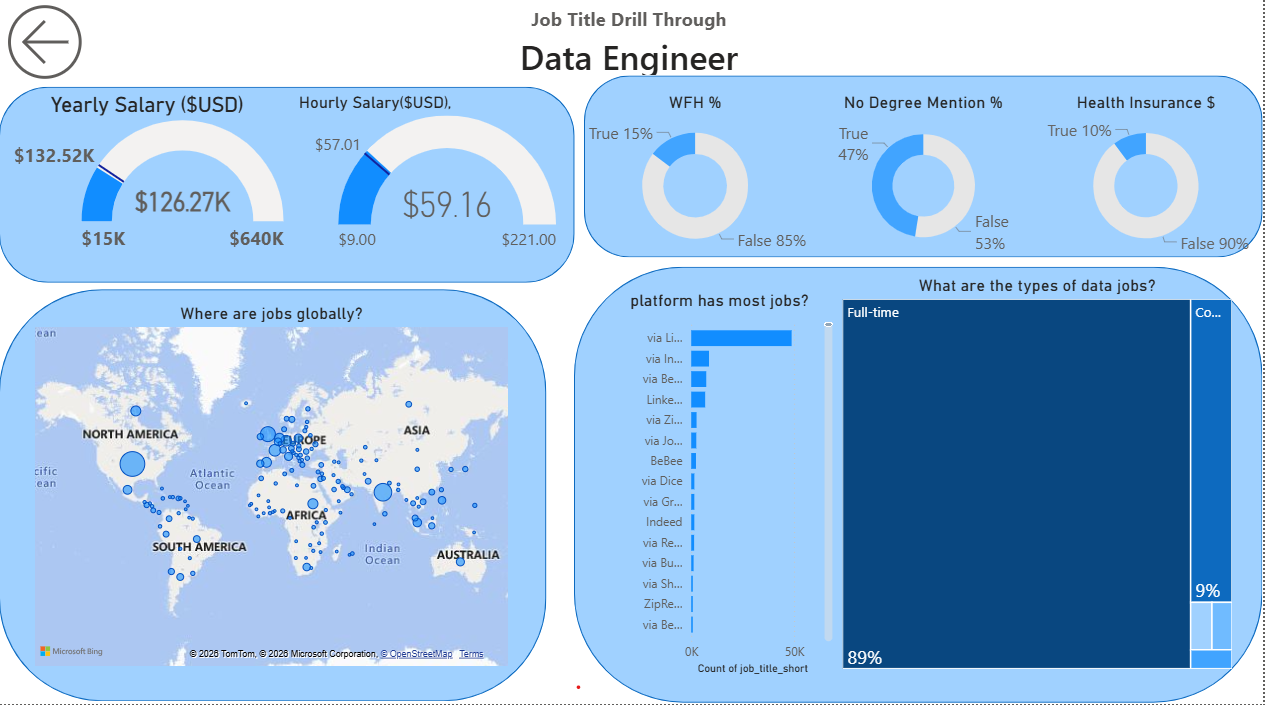

This screenshot's page, from the dashboard's own definition file:
{"tool":"powerbi","page":{"name":"Job Title Drill Through","canvas":[1280,720],"ordinal":1},"visuals":[{"type":"group","id":"g1","title":"Background","box":[0,84.2,1280,635.8],"z":0},{"type":"cardVisual","fields":{"Data":["Min(job_postings_flat.job_title_short)1"]},"box":[419.4,0,438.9,100],"z":1000},{"type":"actionButton","box":[0,0,92.9,100],"z":2000},{"type":"gauge","title":"Yearly Salary ($USD)","fields":{"Y":["Median(job_postings_flat.salary_year_avg)"],"MinValue":["Min(job_postings_flat.salary_year_avg)1"],"MaxValue":["Max(job_postings_flat.salary_year_avg)2"],"TargetValue":["Avg(job_postings_flat.salary_year_avg)3"]},"box":[0,100,298.9,171.1],"z":3000},{"type":"donutChart","title":"WFH %","fields":{"Category":["job_postings_flat.job_work_from_home"],"Y":["CountNonNull(job_postings_flat.job_work_from_home)"]},"box":[582.9,100,245.7,171.4],"z":4000},{"type":"donutChart","title":"No Degree Mention %","fields":{"Category":["job_postings_flat.job_no_degree_mention"],"Y":["CountNonNull(job_postings_flat.job_work_from_home)"]},"box":[828.6,100,214.3,171.4],"z":5000},{"type":"donutChart","title":"Health Insurance $","fields":{"Category":["job_postings_flat.job_health_insurance"],"Y":["CountNonNull(job_postings_flat.job_work_from_home)"]},"box":[1042.9,100,237.1,171.4],"z":6000},{"type":"map","title":"Where are jobs globally?","fields":{"Category":["job_postings_flat.job_country"],"Size":["CountNonNull(job_postings_flat.job_title_short)"]},"box":[32,314,489,372],"z":7000},{"type":"treemap","title":"What are the types of data jobs?","fields":{"Group":["job_postings_flat.job_schedule_type"],"Values":["CountNonNull(job_postings_flat.job_schedule_type)"]},"box":[848.9,286.7,404.4,403.3],"z":8000},{"type":"barChart","title":"platform has most jobs?","fields":{"Category":["job_postings_flat.job_via"],"Y":["CountNonNull(job_postings_flat.job_title_short)"]},"box":[633.8,300.8,215,394.2],"z":9000},{"type":"gauge","title":"Hourly Salary($USD), ","fields":{"Y":["Median(job_postings_flat.salary_hour_avg)"],"MinValue":["Min(job_postings_flat.salary_hour_avg)"],"MaxValue":["Max(job_postings_flat.salary_hour_avg)1"],"TargetValue":["Avg(job_postings_flat.salary_hour_avg)2"]},"box":[298.9,100,283.9,171.1],"z":10000},{"type":"shape","box":[0,95,582.9,198.6],"z":12000,"group":"g1"},{"type":"shape","box":[592.9,84.2,687.1,184.3],"z":14000,"group":"g1"},{"type":"shape","box":[0,301.1,554.3,417.1],"z":15000,"group":"g1"},{"type":"shape","box":[582.9,278.2,697.1,441.4],"z":16000,"group":"g1"}]}

Visuals, with their boxes in screenshot pixels (x1, y1, x2, y2), scaled from the page's 1280x720 canvas onto the 1265x705 screenshot:
"Background" group: box(0, 82, 1264, 704)
cardVisual - Min(job_postings_flat.job_title_short)1: box(414, 0, 848, 98)
actionButton: box(0, 0, 92, 98)
"Yearly Salary ($USD)" gauge: box(0, 98, 295, 265)
"WFH %" donutChart: box(576, 98, 819, 266)
"No Degree Mention %" donutChart: box(819, 98, 1031, 266)
"Health Insurance $" donutChart: box(1031, 98, 1264, 266)
"Where are jobs globally?" map: box(32, 307, 515, 672)
"What are the types of data jobs?" treemap: box(839, 281, 1239, 676)
"platform has most jobs?" barChart: box(626, 295, 839, 681)
"Hourly Salary($USD), " gauge: box(295, 98, 576, 265)
shape: box(0, 93, 576, 287)
shape: box(586, 82, 1264, 263)
shape: box(0, 295, 548, 703)
shape: box(576, 272, 1264, 704)
